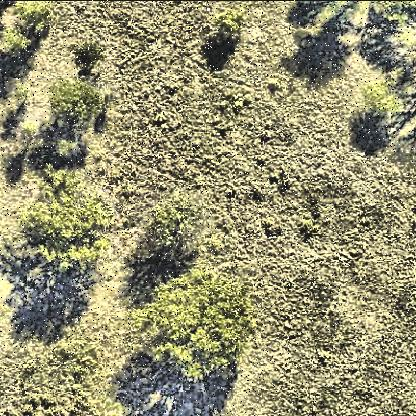tree-top: (141, 266, 255, 380), (13, 171, 111, 285), (141, 206, 199, 262), (46, 74, 101, 125), (1, 2, 54, 54), (358, 80, 406, 126), (387, 24, 416, 74), (210, 7, 248, 43), (47, 133, 84, 165), (74, 43, 103, 69)
